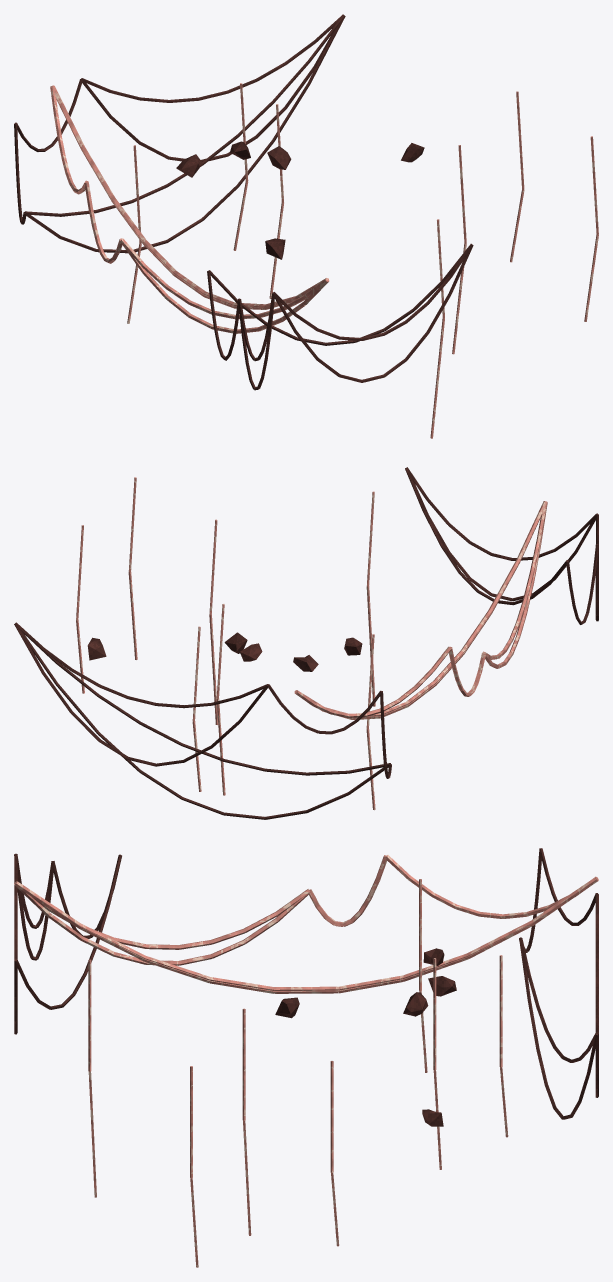
File: sinew_ceiling.glb
3 views of the same model, one above another, from view 1: azimuth 30°, elevation 25°; view 2: azimuth 150°, elevation 25°; view 3: azimuth 270°, elevation 25° (orthographic). The views are drawn at different scales.
Visible parts, largest first — view 1: sinew_ceiling; view 2: sinew_ceiling; view 3: sinew_ceiling.
Part boxes in pixels (x1,y1,x2,y2): sinew_ceiling: [14, 14, 598, 438]; sinew_ceiling: [14, 467, 598, 819]; sinew_ceiling: [14, 848, 598, 1267].
Size of the model in its own units: 3.58 by 1.79 by 3.92.
Materials: 2 (2 with a texture image).
